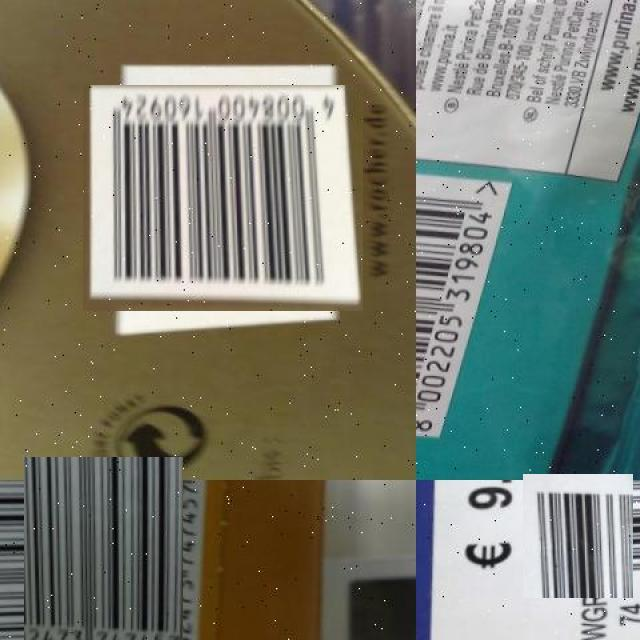Barcode: (96, 71, 349, 325), (12, 469, 196, 640), (416, 156, 512, 441), (519, 477, 637, 594)
